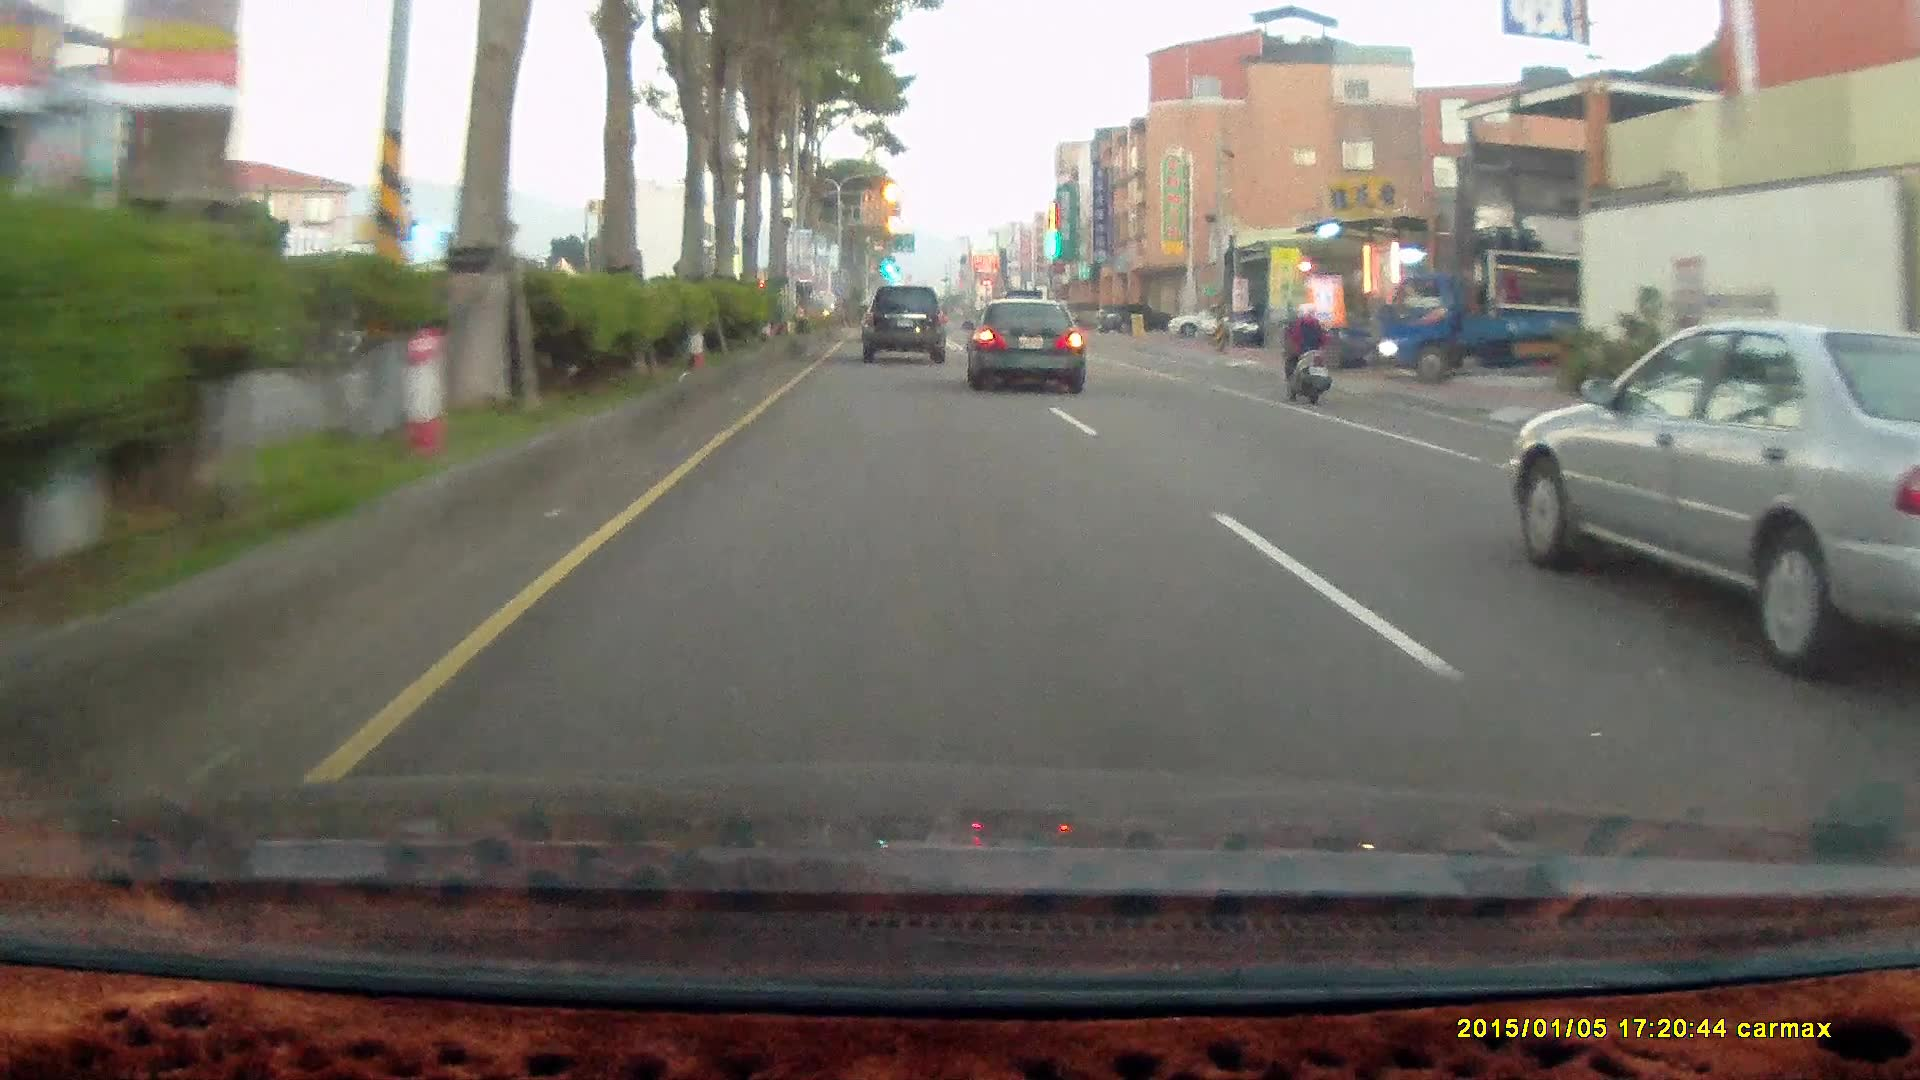rider: (1270, 294, 1343, 416), (1278, 295, 1336, 400)
vehicle: (1506, 317, 1920, 675), (1379, 252, 1584, 385), (1379, 272, 1611, 383), (959, 294, 1084, 392), (972, 295, 1094, 386), (860, 281, 951, 358), (859, 285, 946, 364), (1232, 301, 1314, 348), (1167, 303, 1247, 337), (1098, 301, 1168, 333)
